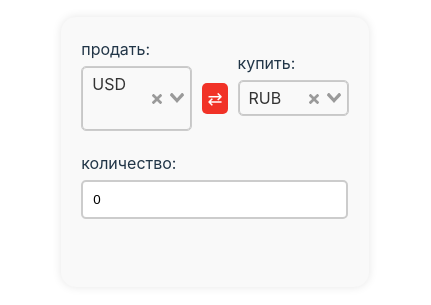
Test: CurrencyConverter.vue › обрабатывает ошибки API корректно
Step 1. Replace the text in the number field labelled "количество:" with "100" → (215, 199), box top-left (81, 180), bottom-right (348, 218)
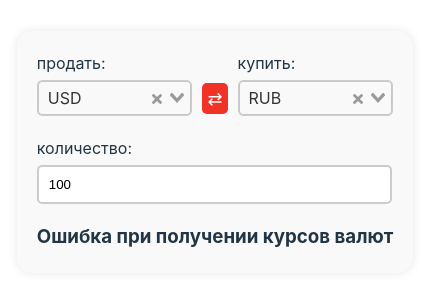
Result: the heading "Ошибка при получении курсов валют" is shown at top-left (37, 223), bottom-right (393, 251)
